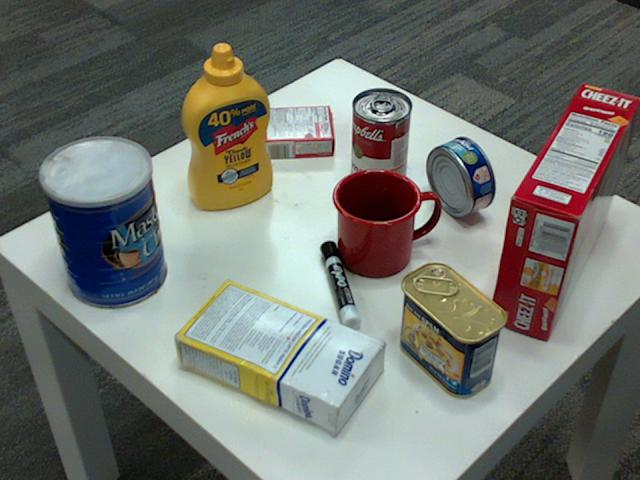cracker_box: (487, 82, 639, 338)
gelatin_box: (262, 103, 336, 156)
large_marker: (320, 242, 360, 334)
master_chef_can: (37, 137, 165, 309)
mug: (331, 166, 436, 274)
mustard_bottle: (181, 43, 273, 209)
potted_meat_can: (396, 262, 507, 397)
sugar_box: (169, 277, 382, 431)
tomato_soup_can: (350, 88, 411, 193)
tuna_fish_can: (425, 136, 493, 216)
